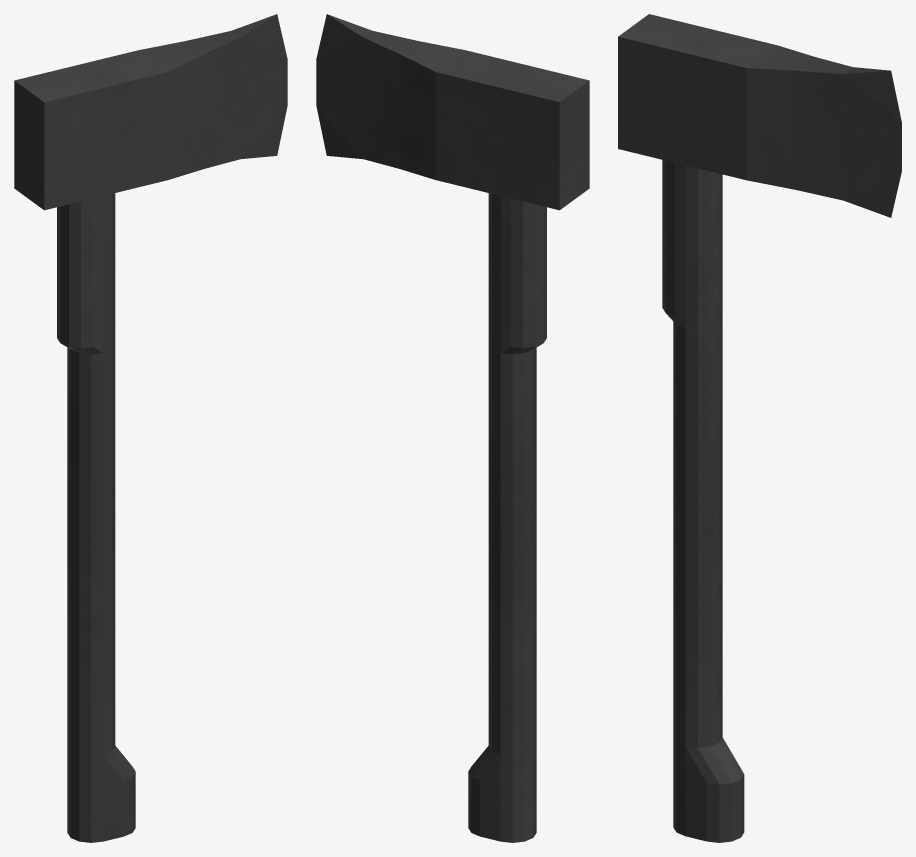
Rendered from bobble_accessory_shimmer_axe.obj.
3 views of the same model, side by side, from view 1: azimuth 30°, elevation 25°; view 2: azimuth 150°, elevation 25°; view 3: azimuth 330°, elevation 25° (orthographic). The views are drawn at different scales.
Parts seen in each view (by area): view 1: Cylinder.001; view 2: Cylinder.001; view 3: Cylinder.001.
Part boxes in pixels (x1=…): Cylinder.001: x1=14, y1=14, x2=287, y2=842; Cylinder.001: x1=316, y1=14, x2=589, y2=842; Cylinder.001: x1=618, y1=14, x2=901, y2=842.
Size of the model in its own units: 0.3125 by 0.8945 by 0.0625.
